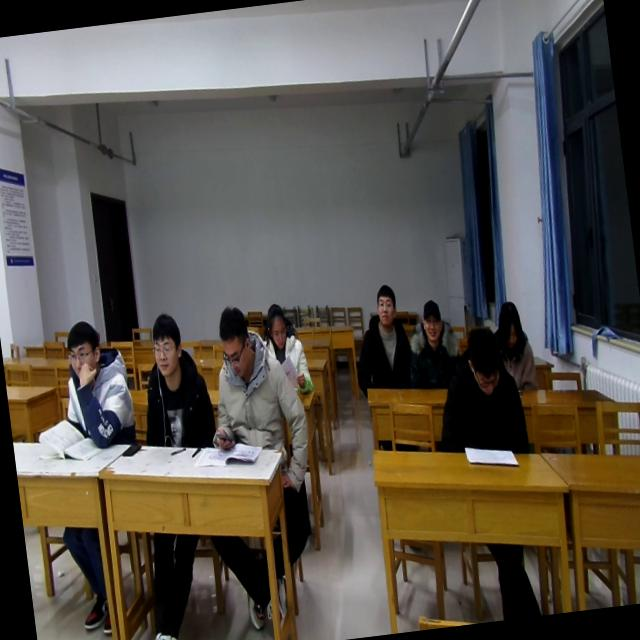down: (457, 319, 511, 402), (212, 299, 256, 379), (492, 296, 528, 356), (260, 294, 291, 356)
lookup: (56, 316, 108, 387), (142, 307, 187, 378), (370, 280, 401, 336), (414, 293, 446, 347)
sit: (195, 294, 311, 458), (428, 324, 530, 460), (128, 308, 218, 454), (52, 313, 141, 452), (344, 280, 416, 398), (398, 294, 466, 398), (253, 298, 314, 402), (487, 298, 538, 394)
